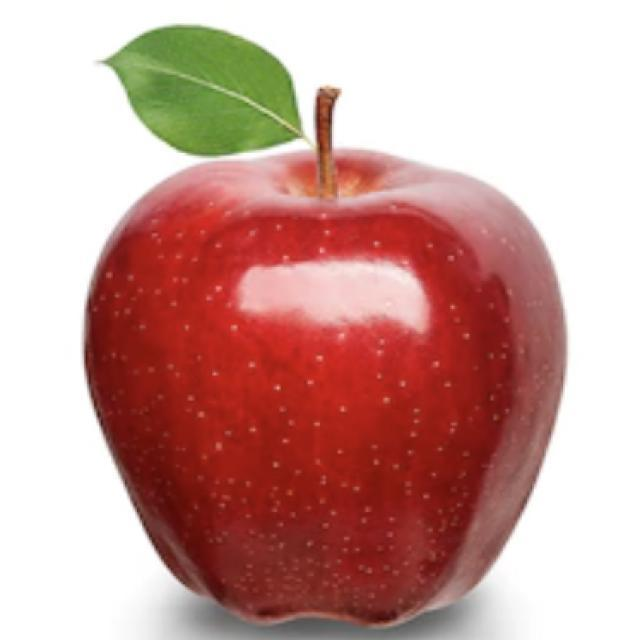Fresh Apple: (64, 145, 564, 640)
